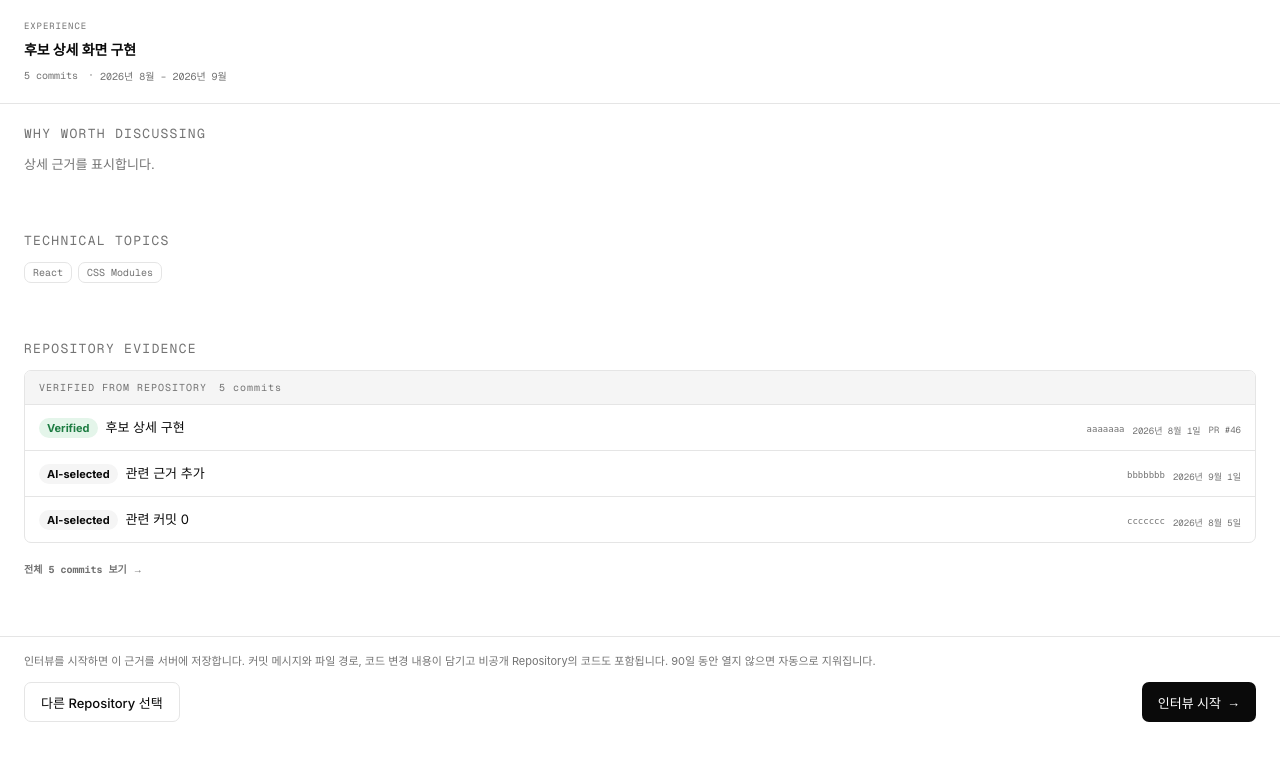
ExperienceCandidateDetail › 근거 항목이 3개를 넘으면 접어 두고 View all로 펼친다
Expected: the text "관련 커밋 2" is not shown
Click the button "전체 5 commits 보기 →".
click(83, 568)  # box [24, 561, 143, 576]
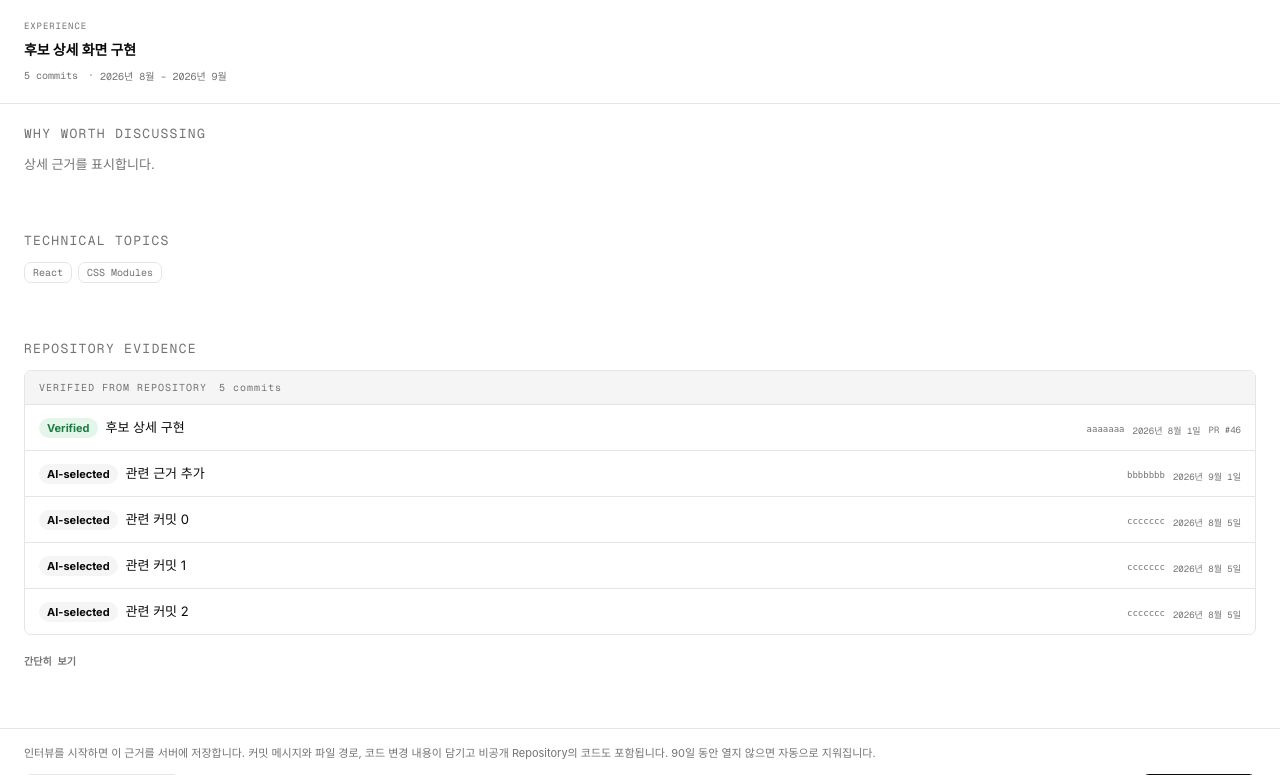
Result: the link "관련 커밋 2" is shown at [126, 603, 189, 619]
Result: the button "간단히 보기" is shown at [24, 653, 76, 668]
